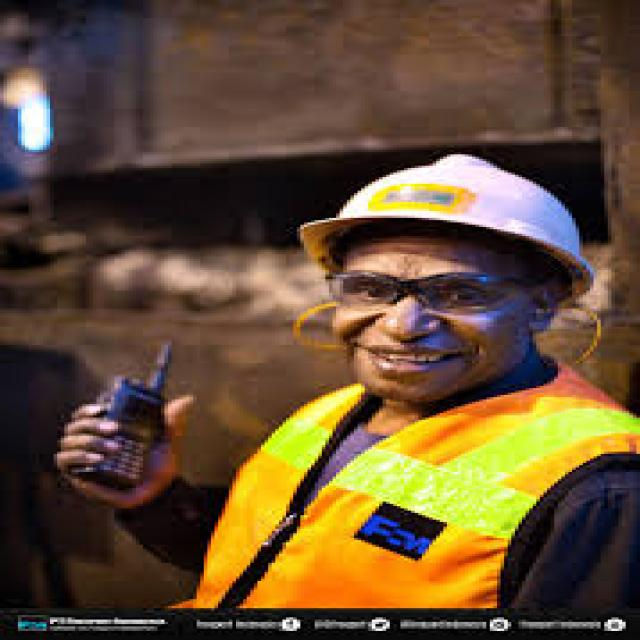glasses: (310, 262, 538, 317)
